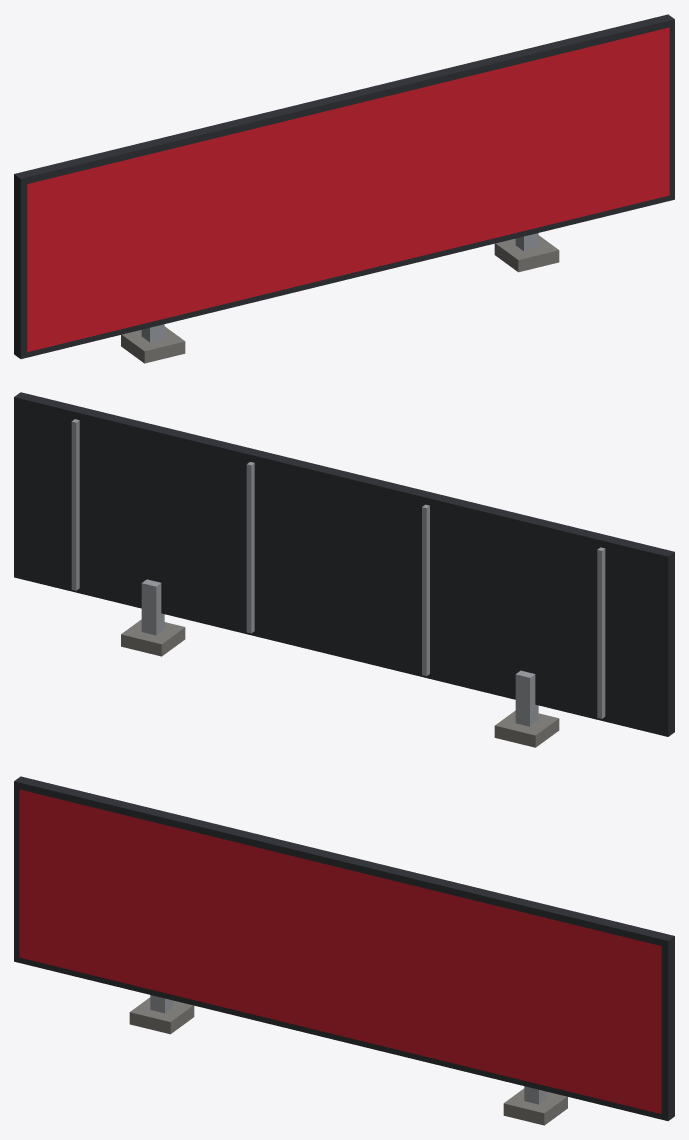
File: billboardLow.glb
3 renders of one model, top to bottom at view 1: azimuth 30°, elevation 25°; view 2: azimuth 150°, elevation 25°; view 3: azimuth 330°, elevation 25°, orthographic.
Visible parts, largest first — view 1: billboard; view 2: billboard; view 3: billboard.
Part boxes in pixels (x1,y1,x2,y2): billboard: (14, 14, 674, 363); billboard: (14, 392, 674, 747); billboard: (14, 776, 674, 1125).
Bounding box in the file's own units: 11.2 × 3.45 × 0.7.
